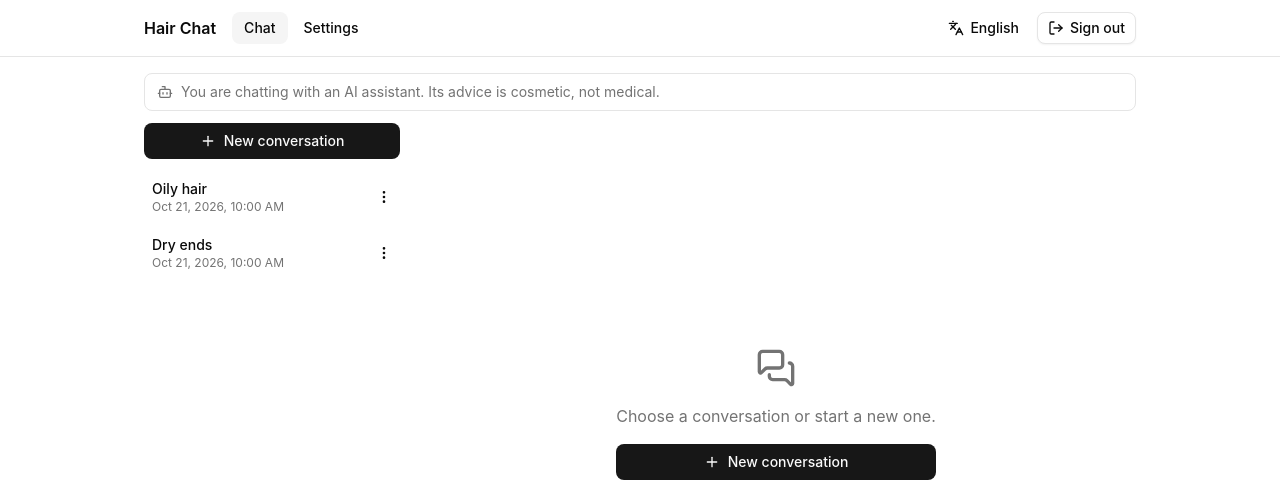
Test: rename a conversation › Escape cancels without a request
The width and height of the screenshot is (1280, 497).
Expected: the link "Oily hair Oct 21, 2026, 10:00 AM" is shown, [152,180,284,214]
Click the button named "Actions for “Oily hair”" at (384, 197), box [368,181,400,213]
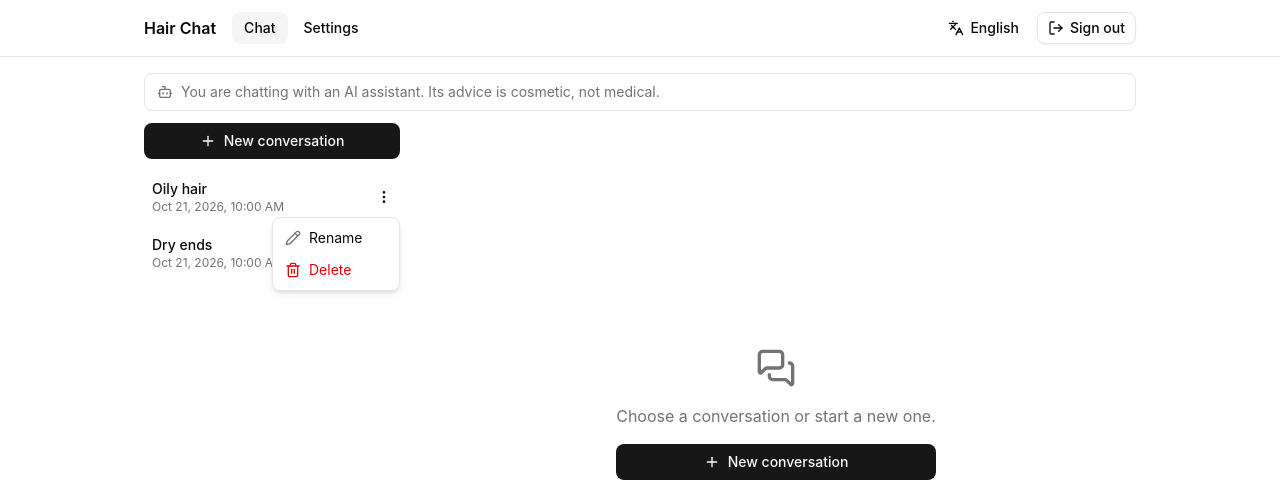
Click the menu item "Rename" at (324, 238), box [285,229,362,246]
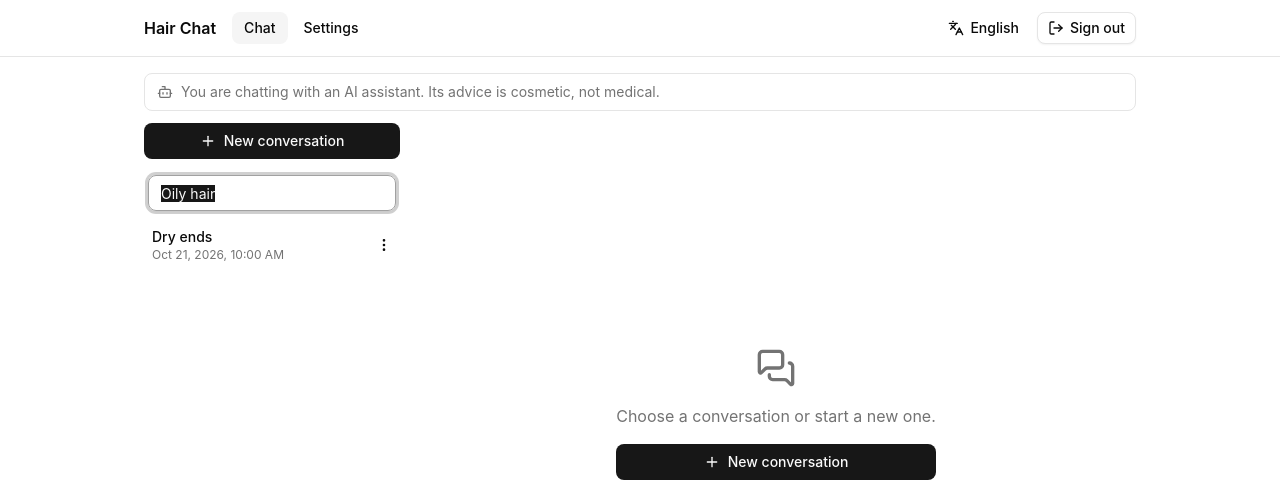
Type " and more" into the field named "Conversation name" at (272, 193), box [148,175,396,211]
Then press Escape
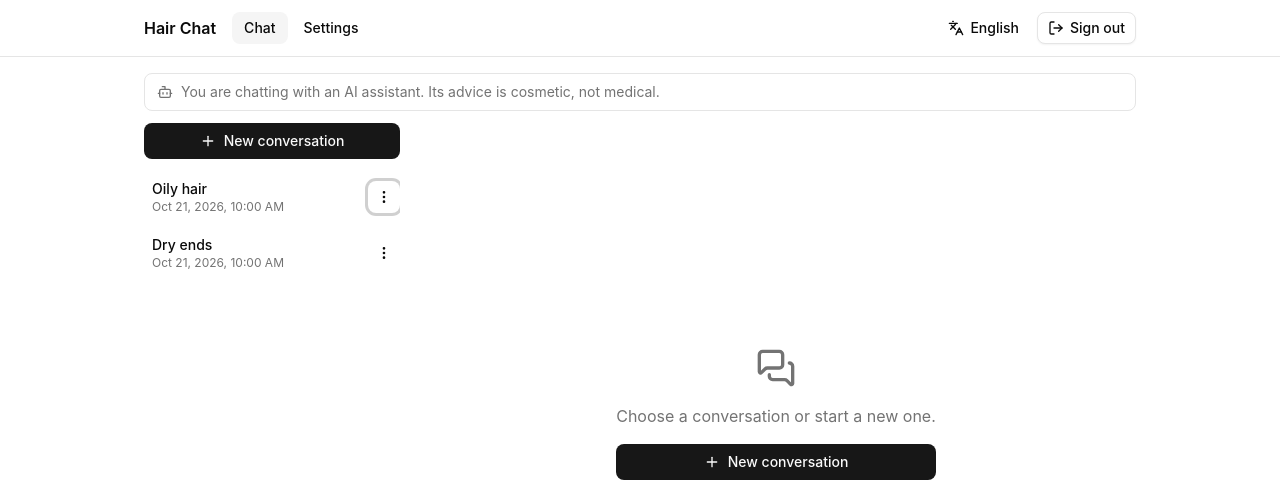
Result: the link "Oily hair Oct 21, 2026, 10:00 AM" is shown at [152,180,284,214]
